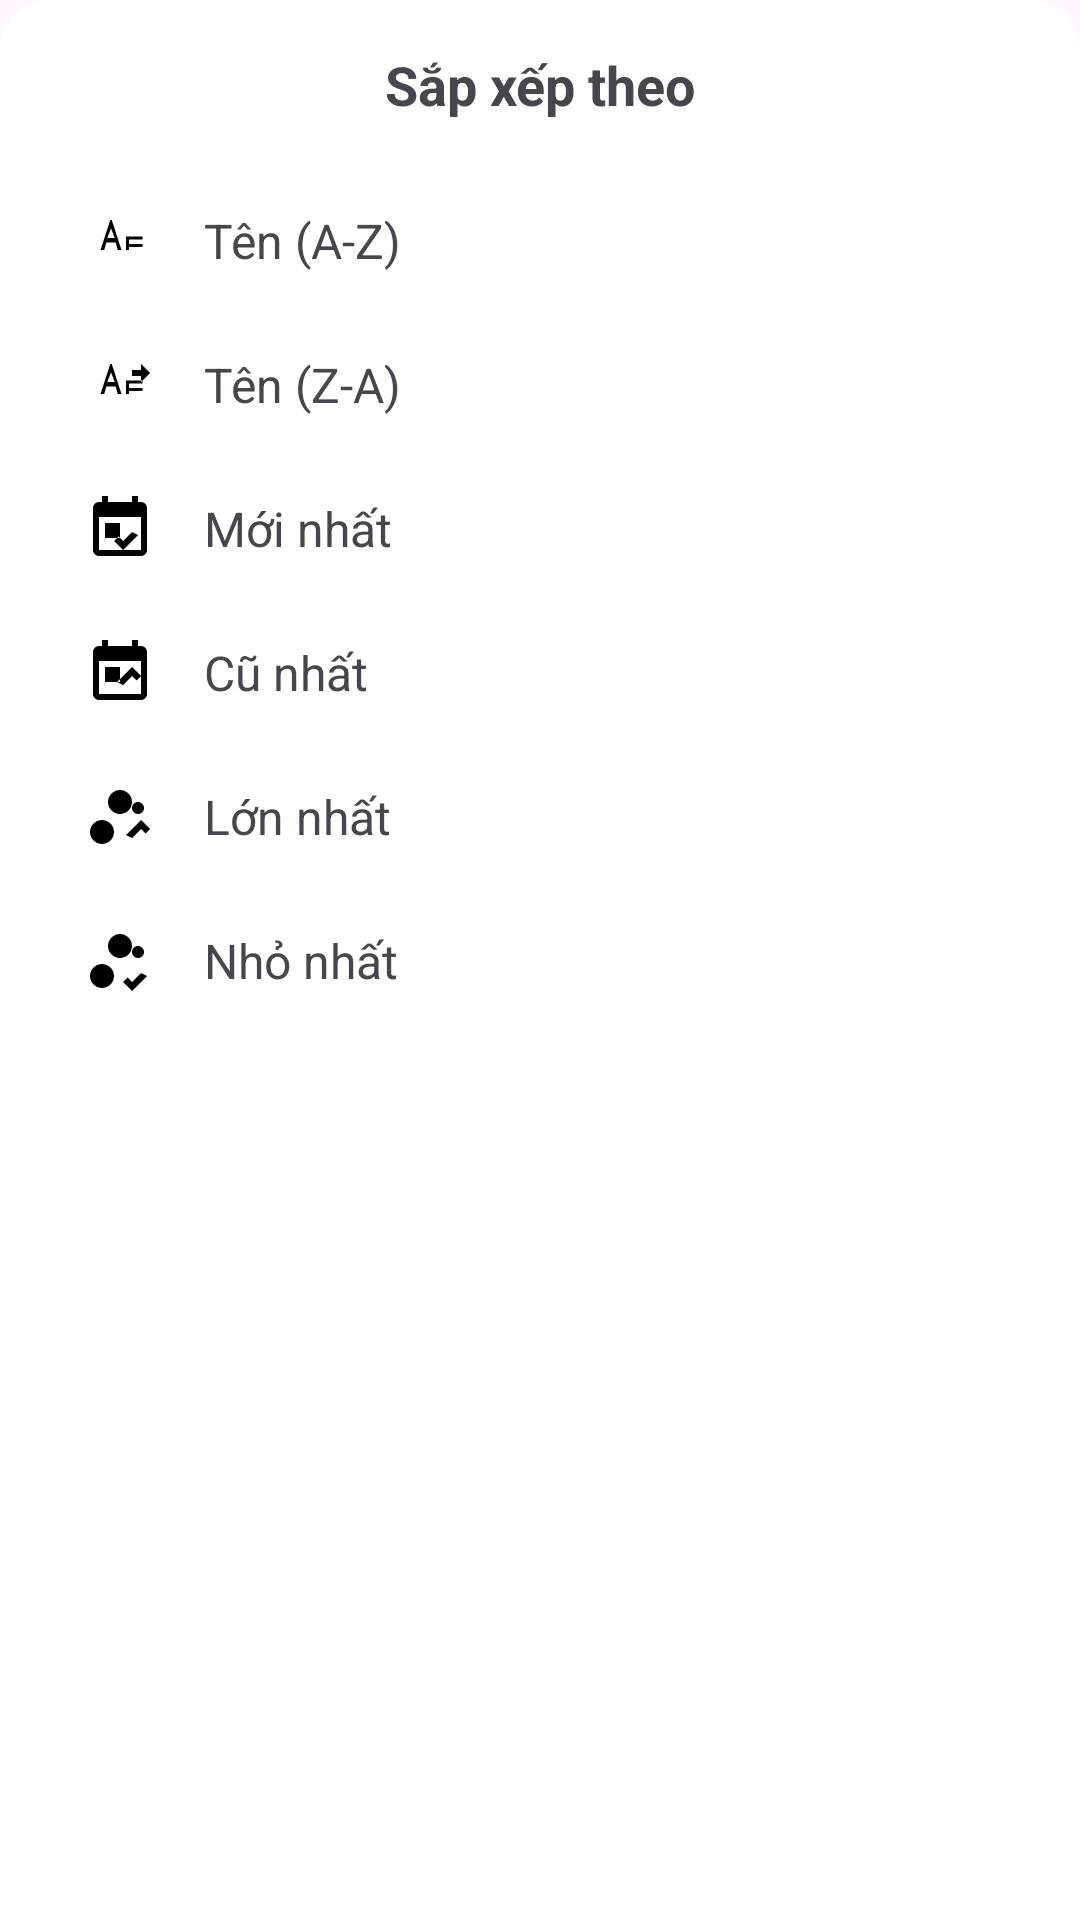

Screen size 1080×1920. Icon name, then its box in pixels as (x1, y1, x2, y2):
sort alphabetical reverse: (100, 364, 150, 394)
sort calendar ascending: (93, 640, 147, 700)
sort calendar descending: (93, 496, 147, 556)
sort size ascending: (90, 934, 147, 991)
sort size descending: (90, 790, 150, 844)
